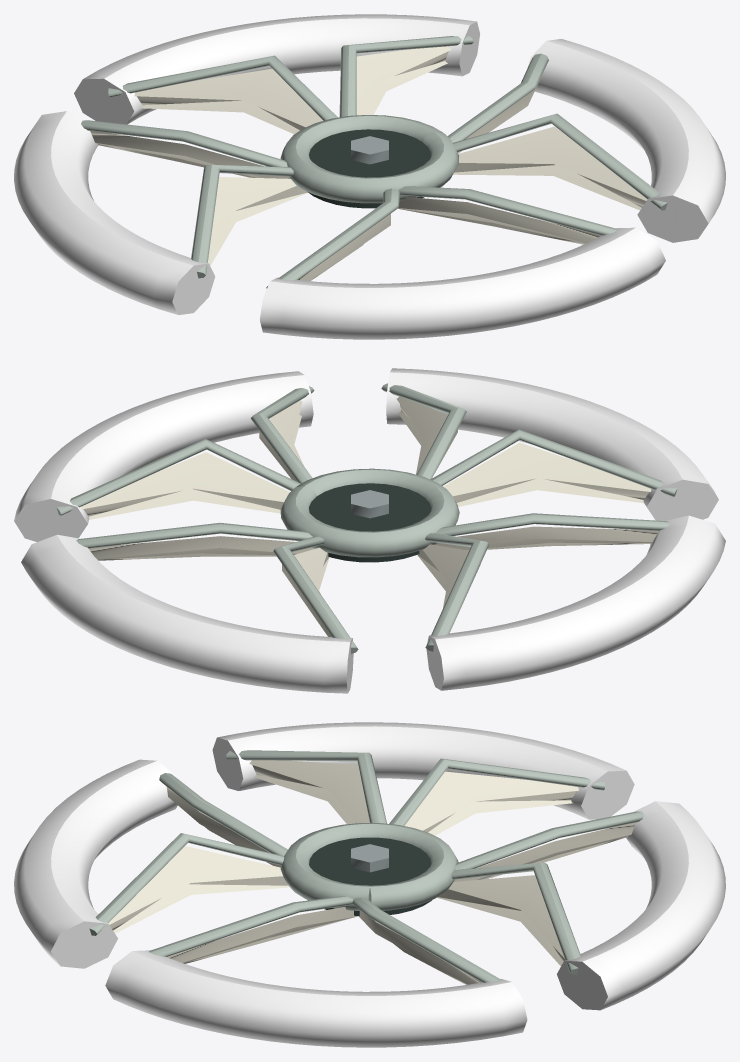
The model's file is Wheel_26_SSR_深緑・銀架.glb.
3 views of the same model, one above another, from view 1: azimuth 30°, elevation 25°; view 2: azimuth 150°, elevation 25°; view 3: azimuth 270°, elevation 25° (orthographic).
Visible parts, largest first — view 1: Wheel_26_SSR; view 2: Wheel_26_SSR; view 3: Wheel_26_SSR.
Boxes of the visible parts, x1,y1,x2,y2 form: Wheel_26_SSR: (14, 14, 725, 339); Wheel_26_SSR: (14, 368, 725, 693); Wheel_26_SSR: (14, 722, 725, 1047).
Size of the model in its own units: 0.3259 by 0.039 by 0.3259.
4 materials, 4 textured.
